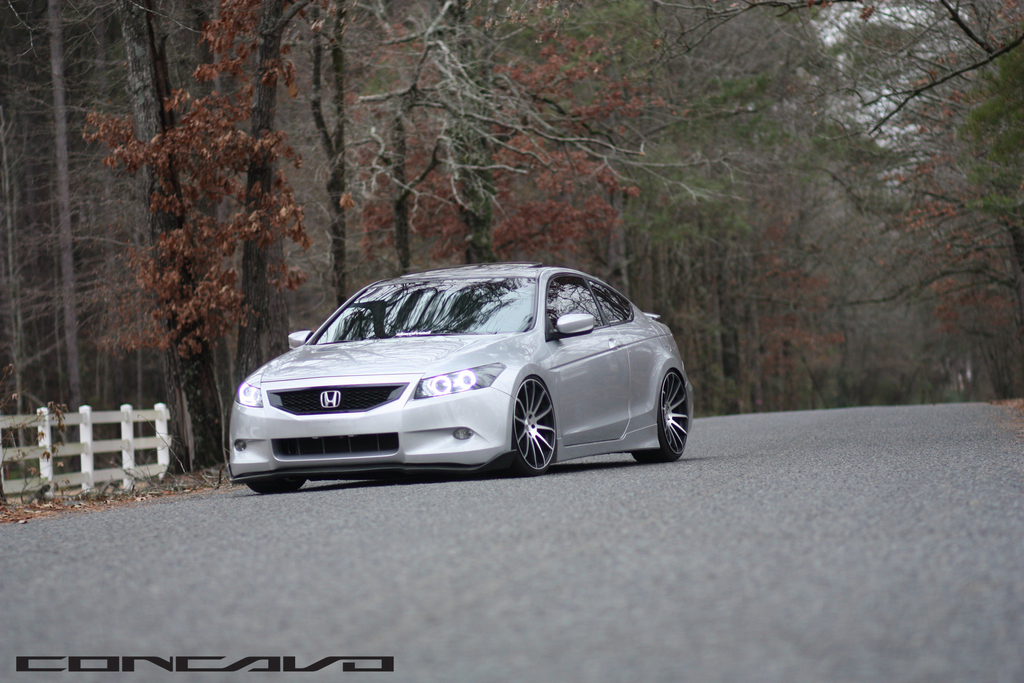Car: (229, 263, 689, 491)
